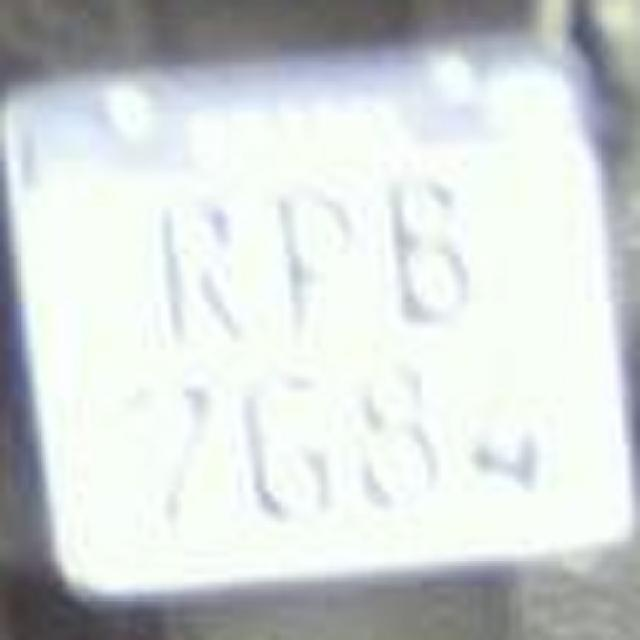4: (440, 336, 545, 532)
7: (96, 344, 229, 536)
B: (380, 155, 485, 340)
E: (316, 332, 432, 536)
P: (268, 165, 372, 360)
